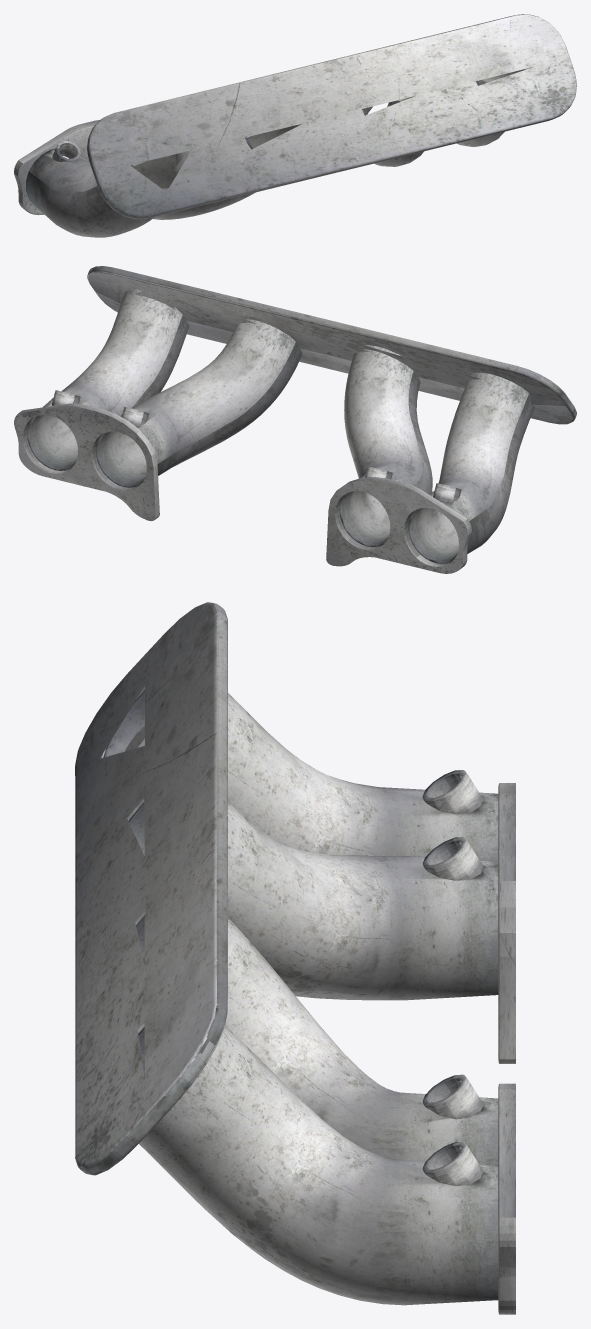
File: fuel_injection_manifold.obj
The picture shows the model from 3 angles, top to bottom: view 1: azimuth 30°, elevation 25°; view 2: azimuth 150°, elevation 25°; view 3: azimuth 270°, elevation 25°; orthographic projection. The views are drawn at different scales.
Visible parts, largest first — view 1: Plane, Tubing, Cyl1-2_Mount, BACKUP_Injector-Slot-1, Injector-Slot-1; view 2: Tubing, Plane, Cyl3-4_Mount, Cyl1-2_Mount; view 3: Tubing, Plane, Cyl1-2_Mount, Cyl3-4_Mount, BACKUP_Injector-Slot-4, Injector-Slot-1, BACKUP_Injector-Slot-3, Injector-Slot-2, BACKUP_Injector-Slot-2, Injector-Slot-4, Injector-Slot-3, BACKUP_Injector-Slot-1.
Part boxes in pixels (x1=…): Plane: x1=87, y1=14, x2=576, y2=219; Tubing: x1=26, y1=67, x2=532, y2=237; Cyl1-2_Mount: x1=14, y1=120, x2=99, y2=215; BACKUP_Injector-Slot-1: x1=52, y1=140, x2=80, y2=161; Injector-Slot-1: x1=52, y1=141, x2=80, y2=161; Tubing: x1=27, y1=289, x2=534, y2=563; Plane: x1=87, y1=266, x2=576, y2=424; Cyl3-4_Mount: x1=14, y1=403, x2=159, y2=521; Cyl1-2_Mount: x1=326, y1=477, x2=471, y2=573; Tubing: x1=103, y1=690, x2=498, y2=1305; Plane: x1=75, y1=602, x2=227, y2=1175; Cyl1-2_Mount: x1=498, y1=783, x2=515, y2=1063; Cyl3-4_Mount: x1=498, y1=1083, x2=515, y2=1314; BACKUP_Injector-Slot-4: x1=422, y1=1141, x2=481, y2=1185; Injector-Slot-1: x1=422, y1=770, x2=483, y2=814; BACKUP_Injector-Slot-3: x1=422, y1=1074, x2=480, y2=1119; Injector-Slot-2: x1=424, y1=837, x2=483, y2=880; BACKUP_Injector-Slot-2: x1=422, y1=837, x2=480, y2=880; Injector-Slot-4: x1=424, y1=1142, x2=483, y2=1185; Injector-Slot-3: x1=424, y1=1076, x2=483, y2=1118; BACKUP_Injector-Slot-1: x1=422, y1=770, x2=483, y2=814.
Bounding box in the file's own units: 0.263 × 0.091 × 0.1057.
